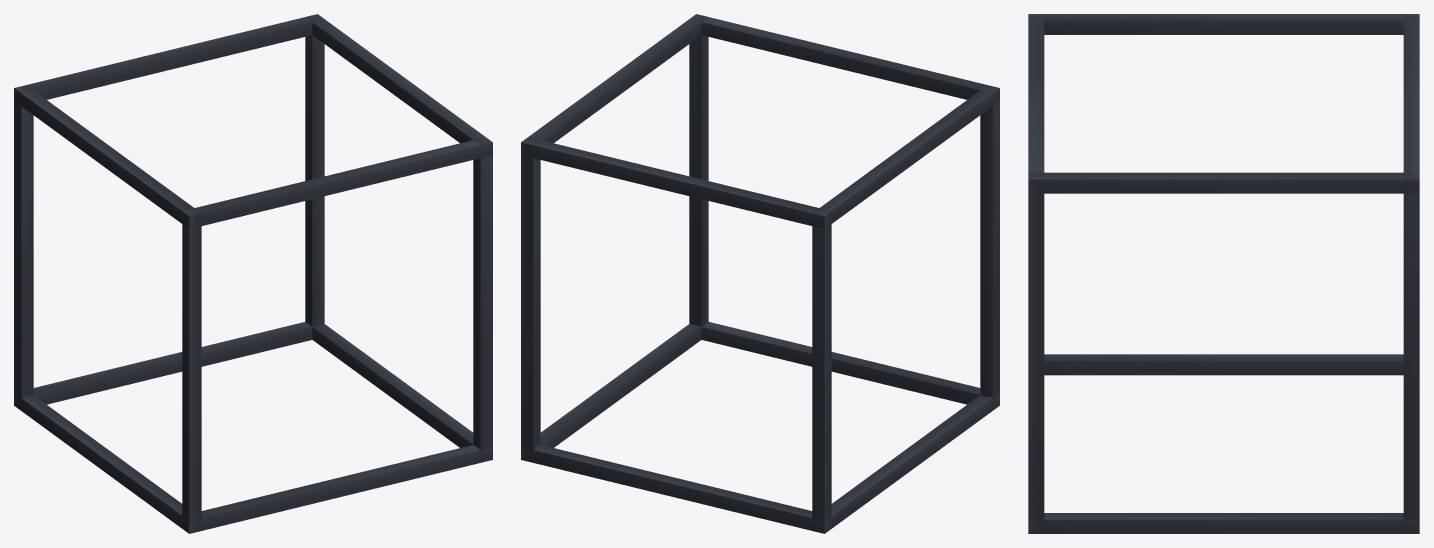
File: Mark_Block.fbx
3 views of the same model, side by side, from view 1: azimuth 30°, elevation 25°; view 2: azimuth 150°, elevation 25°; view 3: azimuth 270°, elevation 25° (orthographic). The views are drawn at different scales.
Parts seen in each view (by area): view 1: Mark_Block; view 2: Mark_Block; view 3: Mark_Block.
Part boxes in pixels (x1,y1,x2,y2): Mark_Block: (14,14,492,533); Mark_Block: (521,14,999,533); Mark_Block: (1028,14,1419,533).
Size of the model in its own units: 25.25 by 25.25 by 25.25.
1 material, 1 textured.
